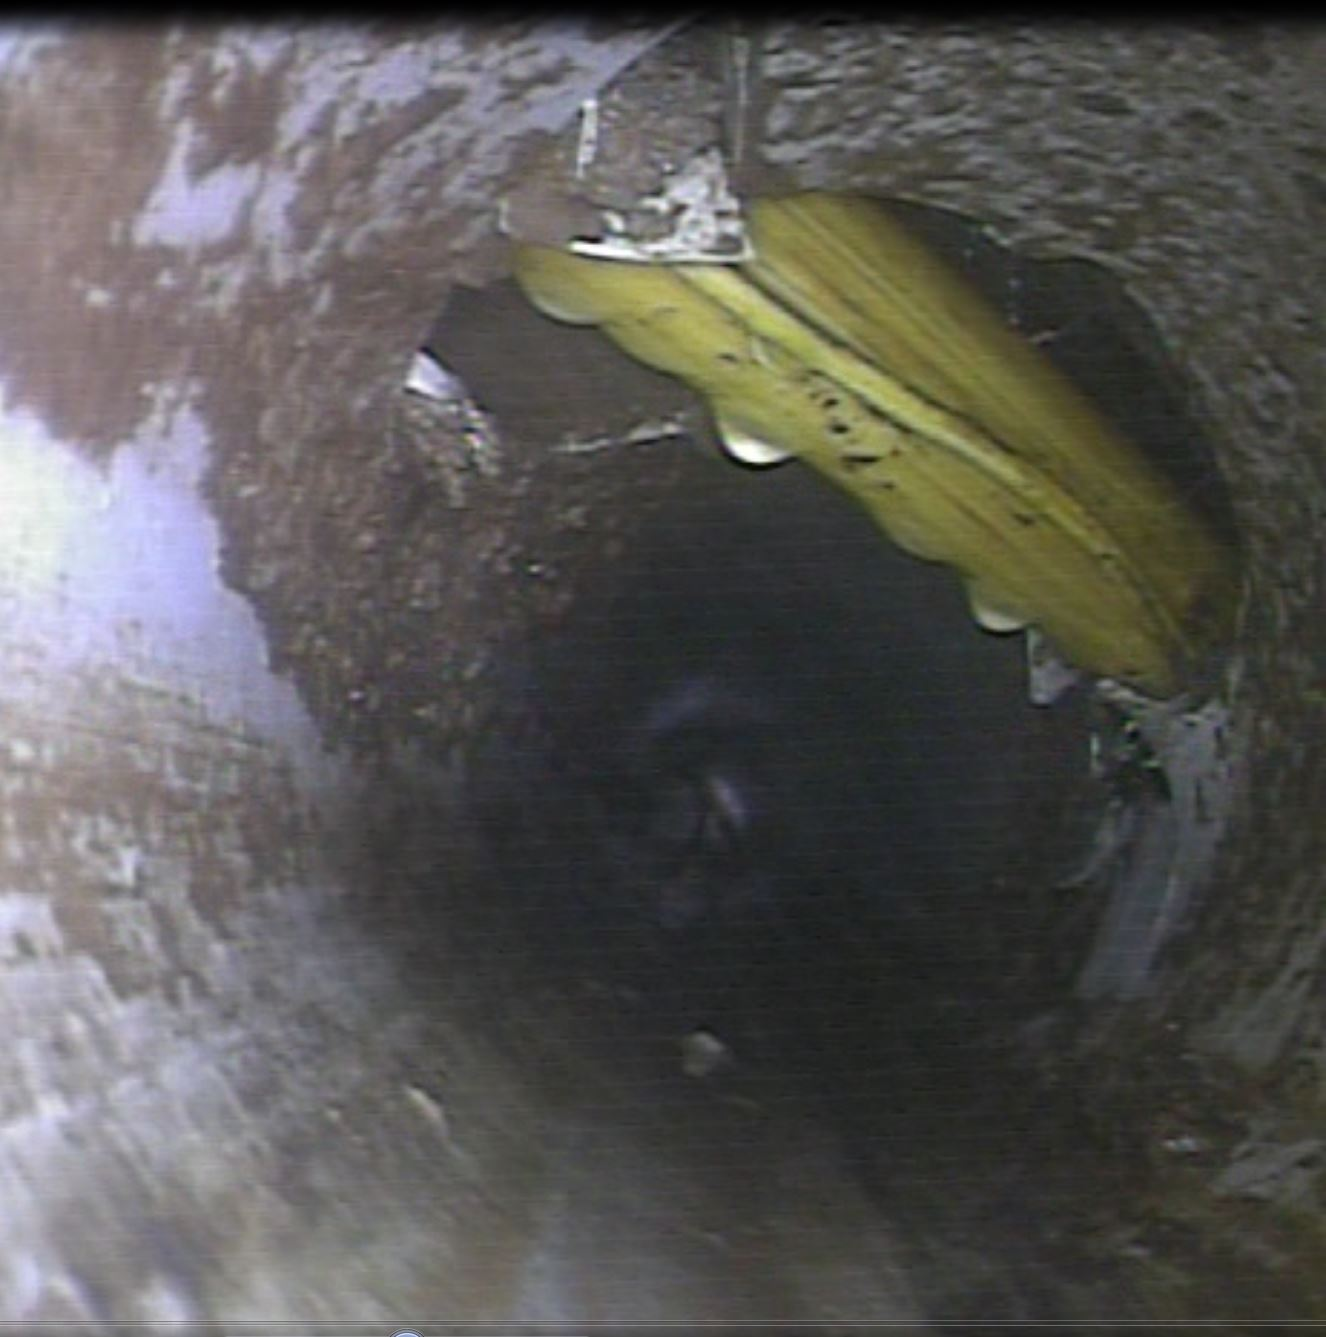cb: (482, 128, 1269, 758)
